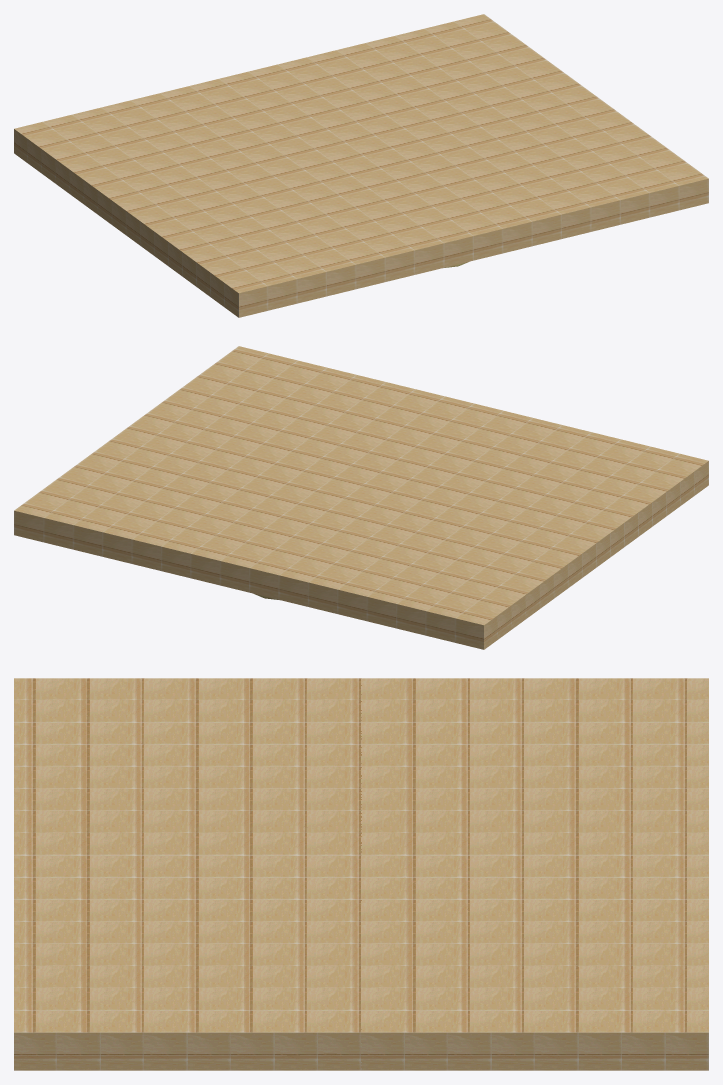
Rendered from 1112item583.gltf.
3 renders of one model, top to bottom at view 1: azimuth 30°, elevation 25°; view 2: azimuth 150°, elevation 25°; view 3: azimuth 270°, elevation 25°, orthographic. The views are drawn at different scales.
Parts seen in each view (by area): view 1: 1112item583; view 2: 1112item583; view 3: 1112item583.
Part boxes in pixels (x1,y1,x2,y2): 1112item583: [14, 14, 708, 317]; 1112item583: [14, 346, 708, 649]; 1112item583: [14, 678, 708, 1070].
Size of the model in its own units: 1.33 by 0.1123 by 1.1.
Materials: 5 (5 with a texture image).
